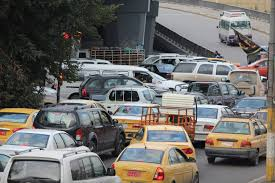nonacc: (8, 61, 266, 179)
